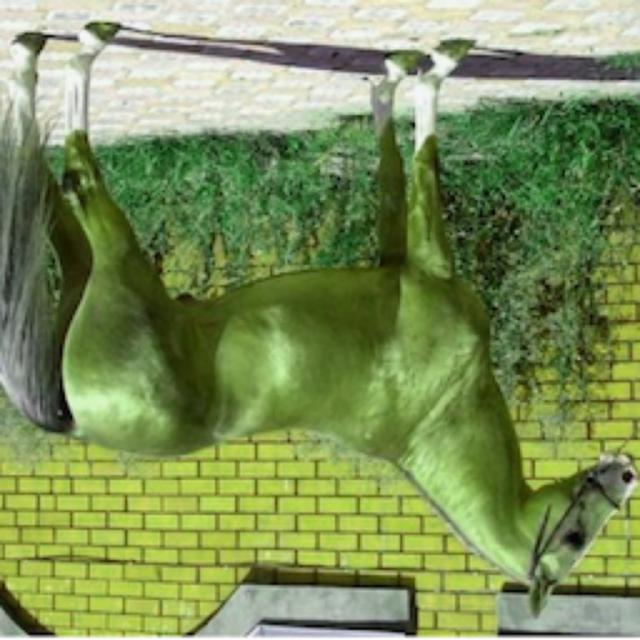Horse: (2, 20, 640, 622)
